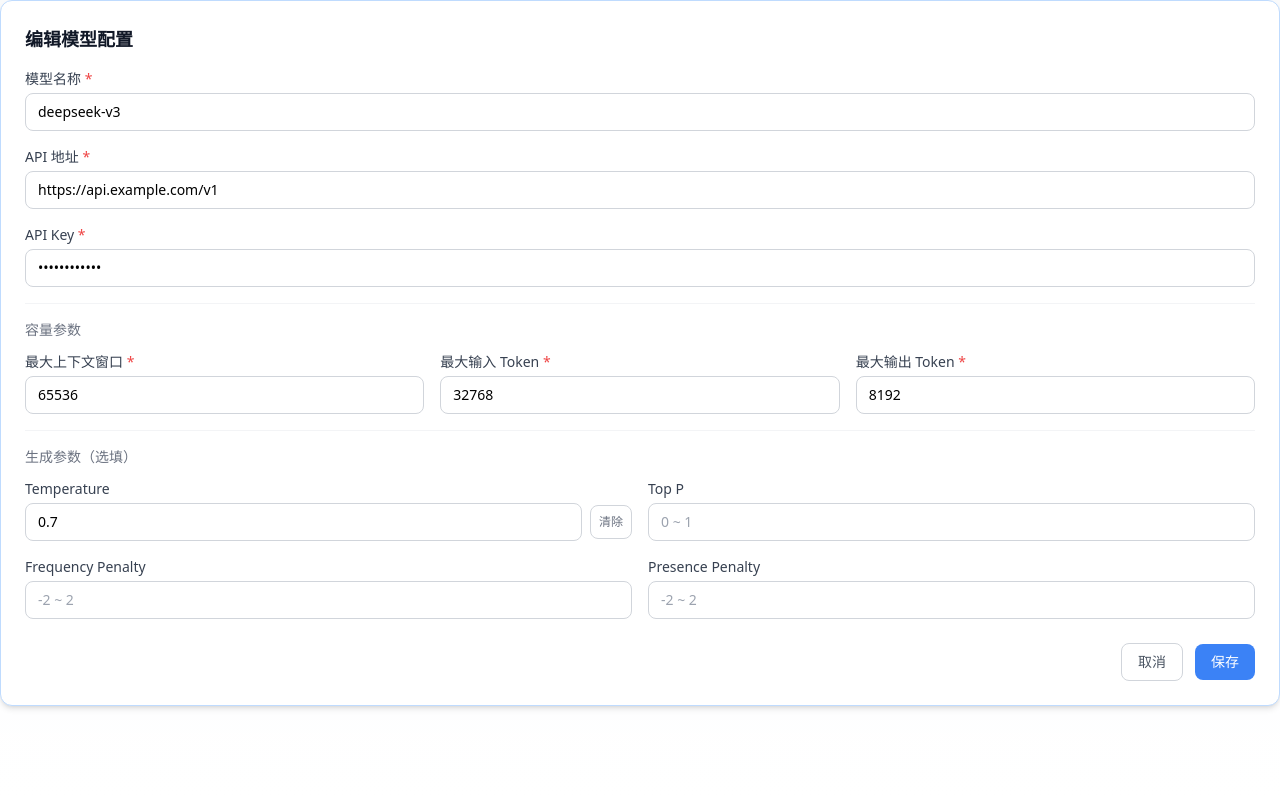
Scenario: ModelConfigForm › 必填字段校验 › 空名称应显示校验错误
Clear the field showing "deepseek-v3" below "模型名称" at x=640, y=112, box [25, 93, 1255, 131]
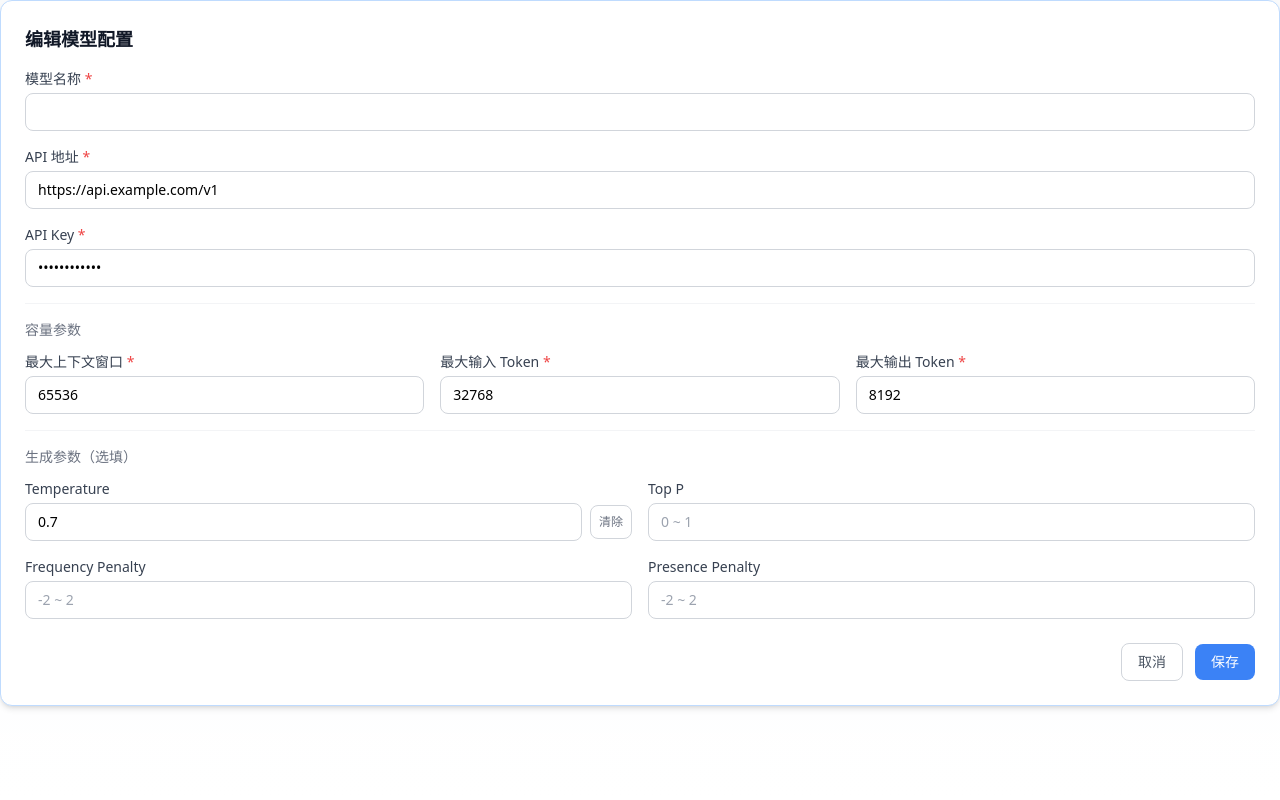
Click the button "保存" at x=1225, y=662, box [1195, 644, 1255, 680]
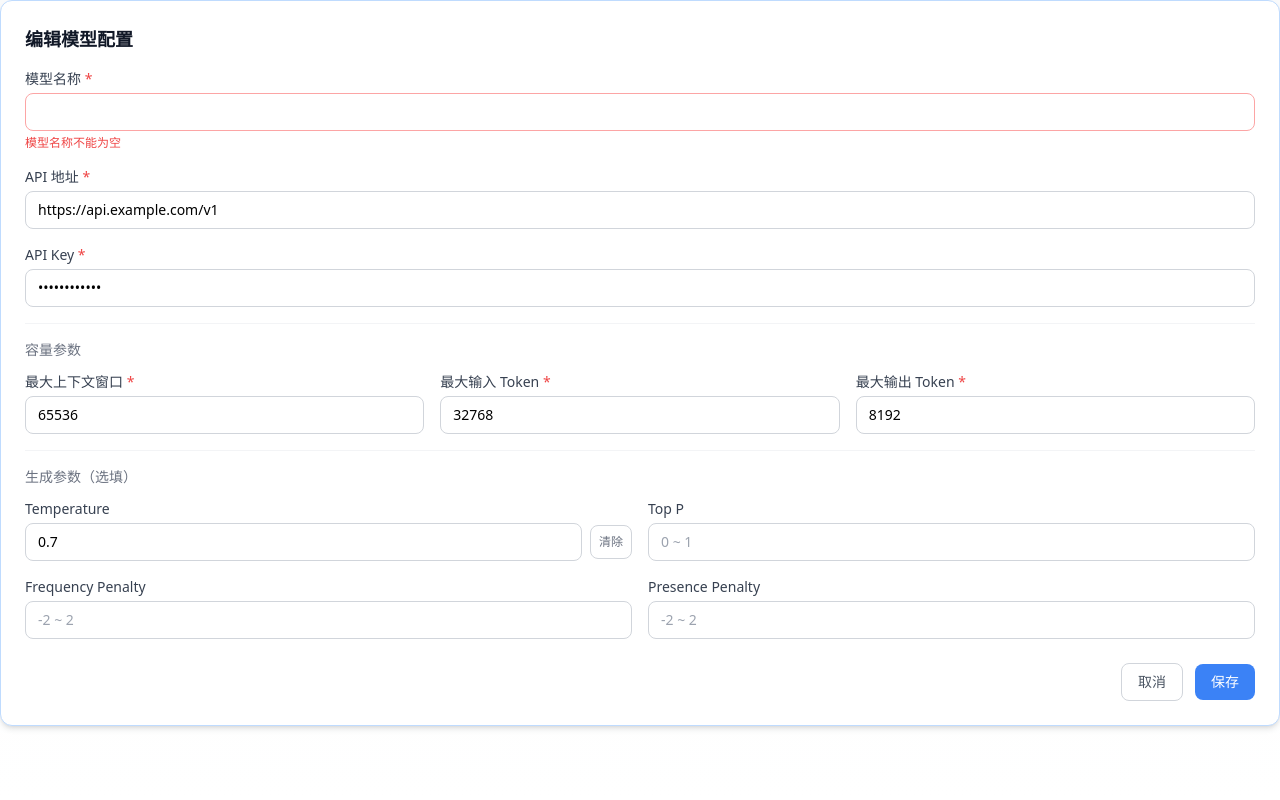
Expected: the text "模型名称不能为空" is shown, [25, 134, 121, 151]
